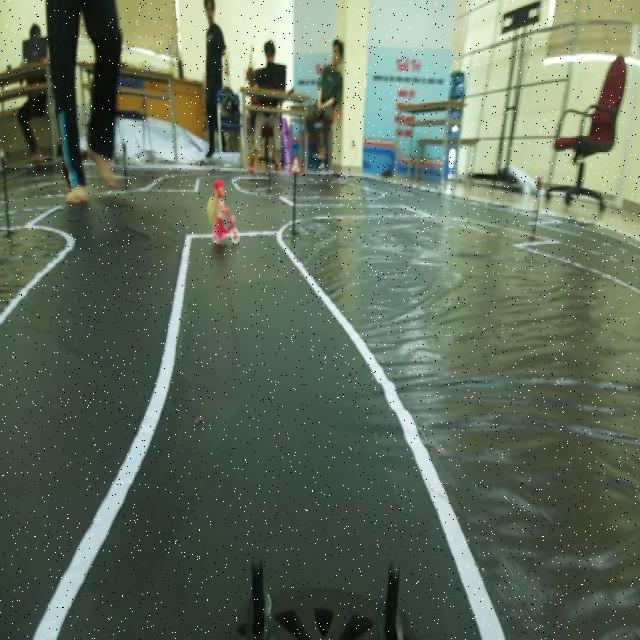pedestrian: (201, 174, 245, 251)
